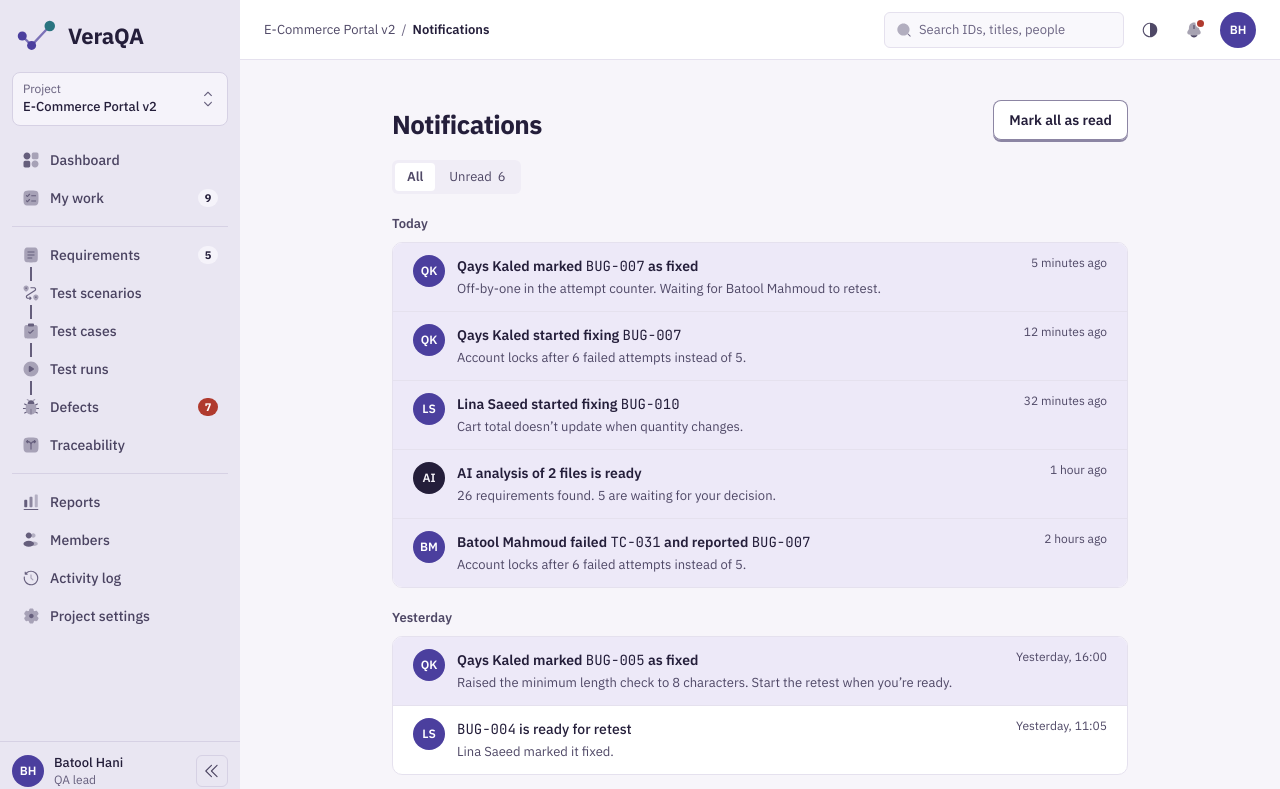
Notifications › marks everything read at once
Click the button "Mark all as read". click: (1061, 120)
box: x1=993 y1=100 x2=1128 y2=140
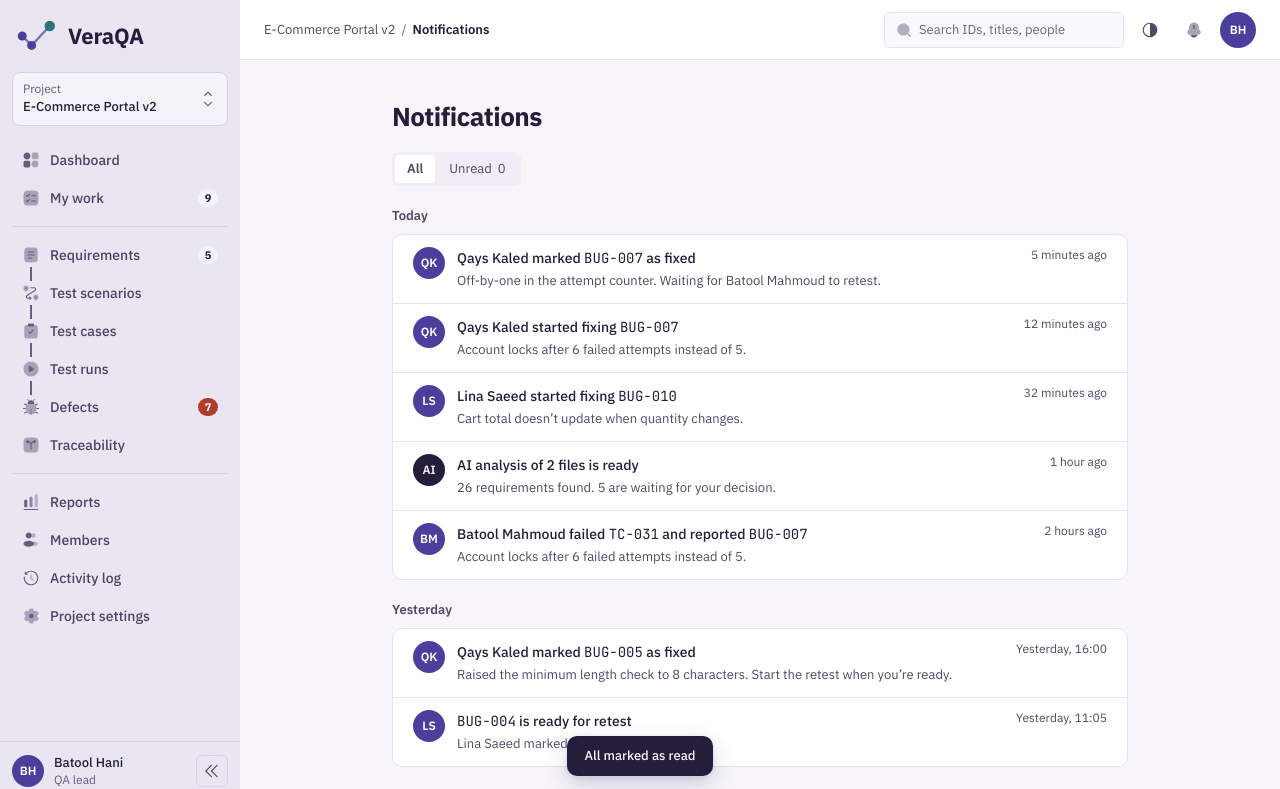
Expected: the text "All marked as read" is shown, x1=584 y1=746 x2=696 y2=766
Expected: the button "Mark all as read" is gone
